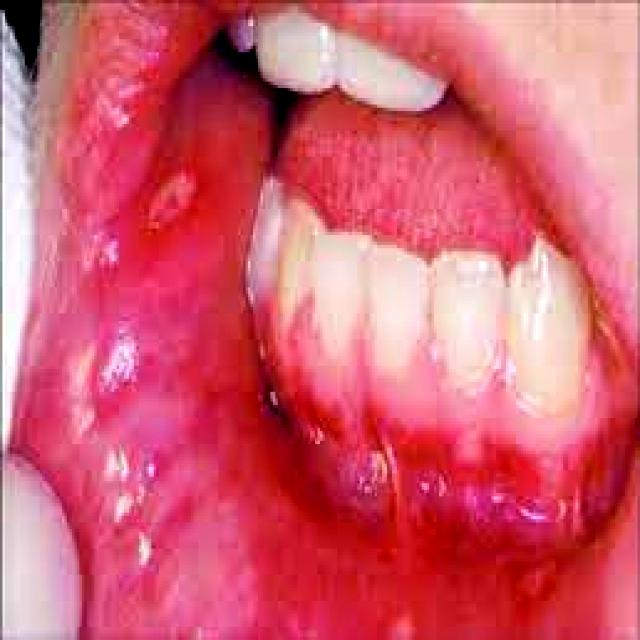ulcer: (146, 170, 196, 225)
